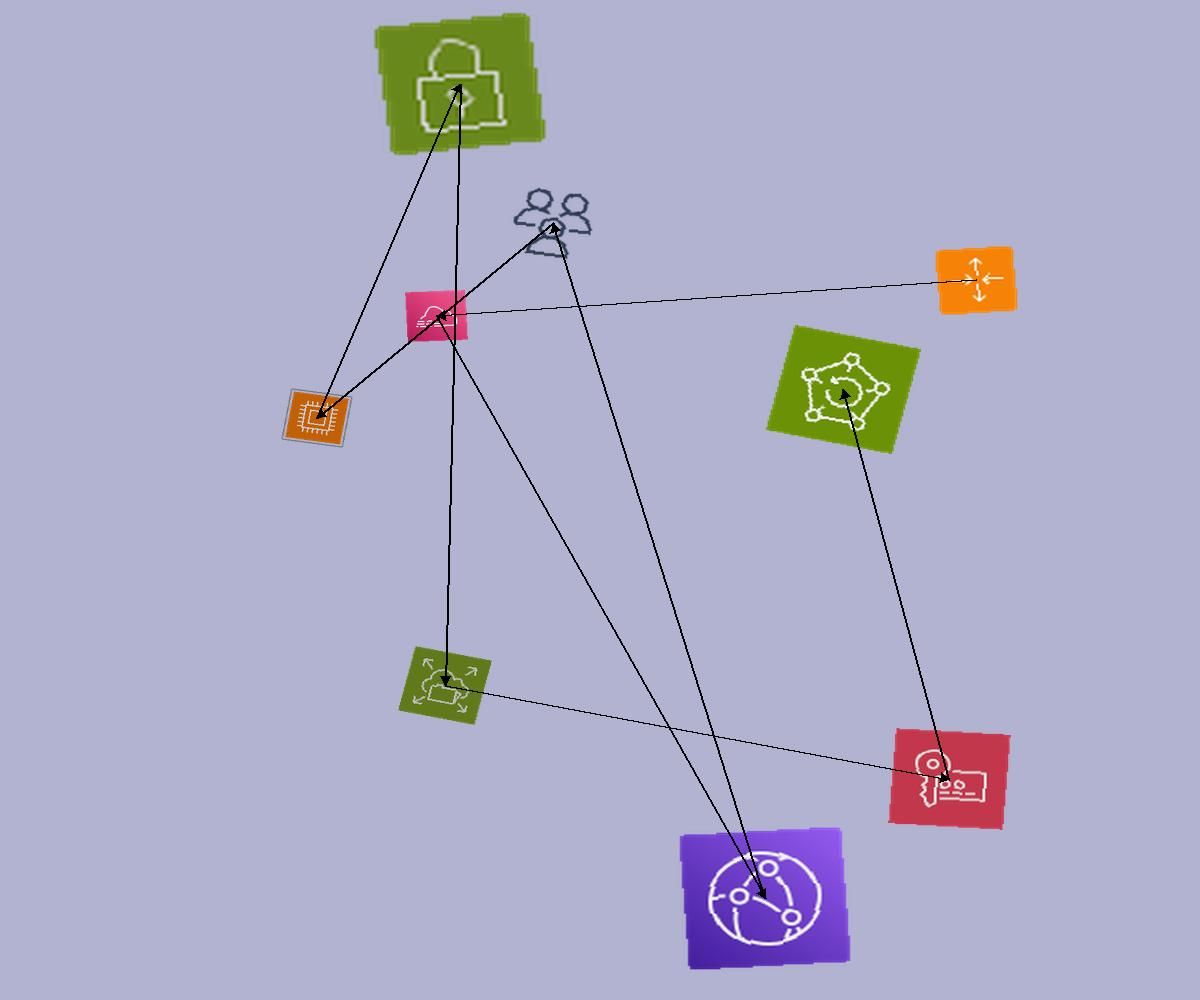AWS-Backup: (766, 325, 921, 454)
AWS-Category_Compute: (281, 388, 353, 448)
AWS-CloudFront: (678, 826, 852, 971)
AWS-CloudTrail: (405, 290, 468, 342)
AWS-EFS: (398, 646, 492, 725)
AWS-Key-Management-Service: (888, 728, 1011, 830)
AWS-Public-subnet: (371, 10, 549, 158)
AWS-Res_Users: (503, 182, 603, 265)
AWS-Scaling-group: (934, 245, 1019, 316)
